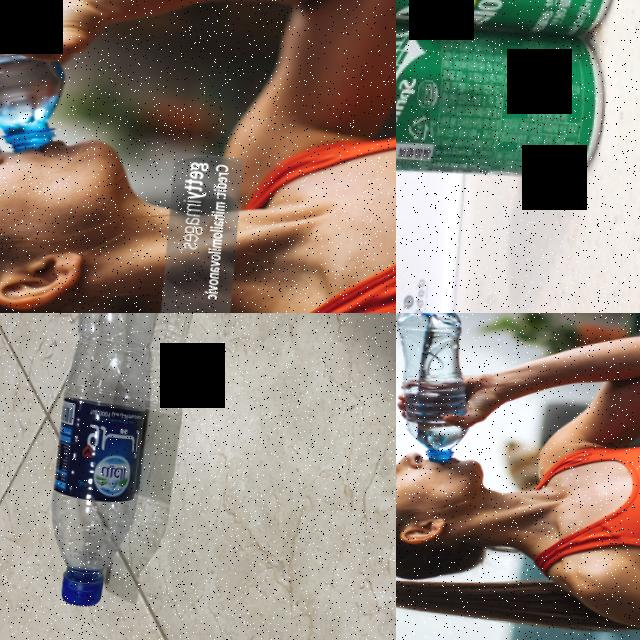bottle: (40, 313, 172, 613), (396, 313, 484, 465)
can: (396, 7, 612, 193)
